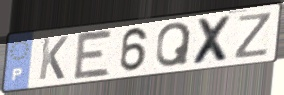6: (119, 25, 150, 74)
E: (71, 28, 115, 81)
K: (36, 35, 70, 82)
Q: (154, 21, 194, 69)
X: (191, 13, 235, 67)
Z: (233, 10, 275, 61)
